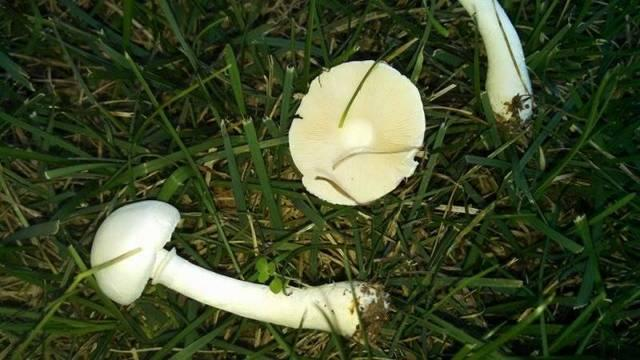Non-edible Mushroom: (89, 198, 391, 340), (287, 58, 426, 207), (458, 0, 535, 139)
